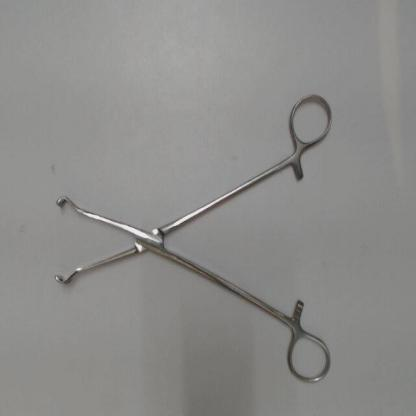8 Babcock Tissue Forceps: (48, 79, 339, 392)
